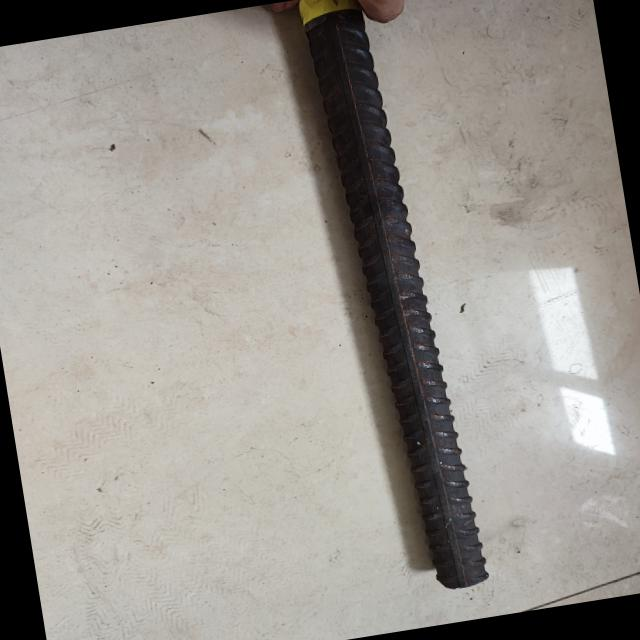ribbed bar: (289, 0, 499, 603)
